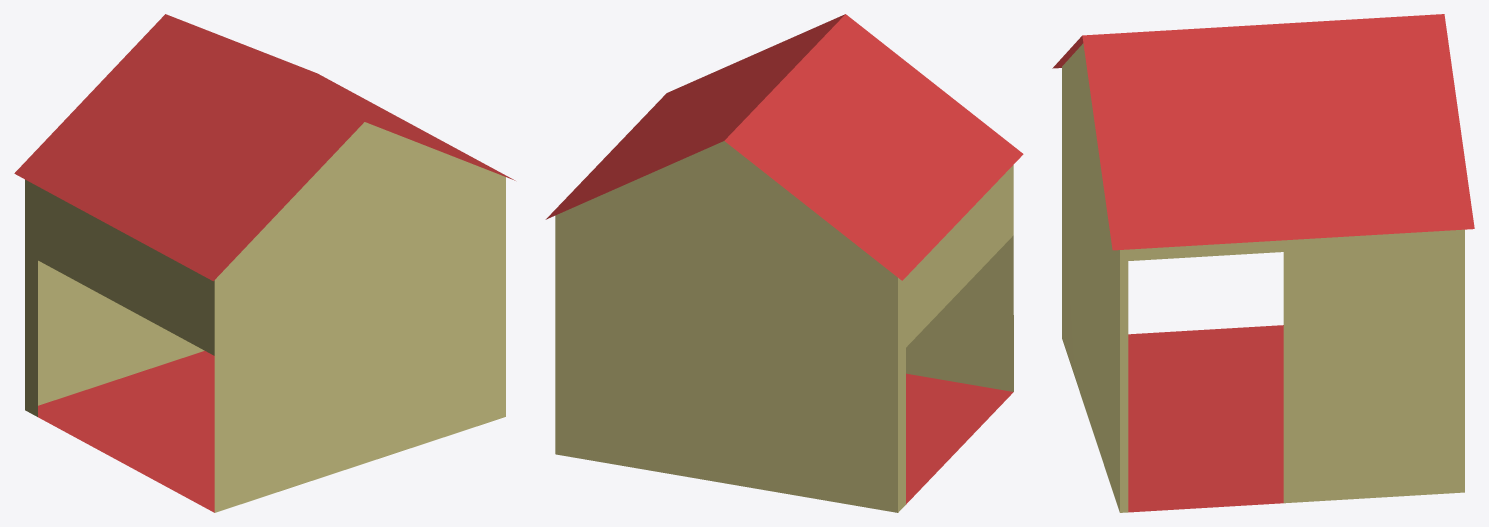
3 views of the same model, side by side, from view 1: azimuth 30°, elevation 25°; view 2: azimuth 150°, elevation 25°; view 3: azimuth 270°, elevation 25° (orthographic). The views are drawn at different scales.
Size of the model in its own units: 14.03 by 12.32 by 12.56.
